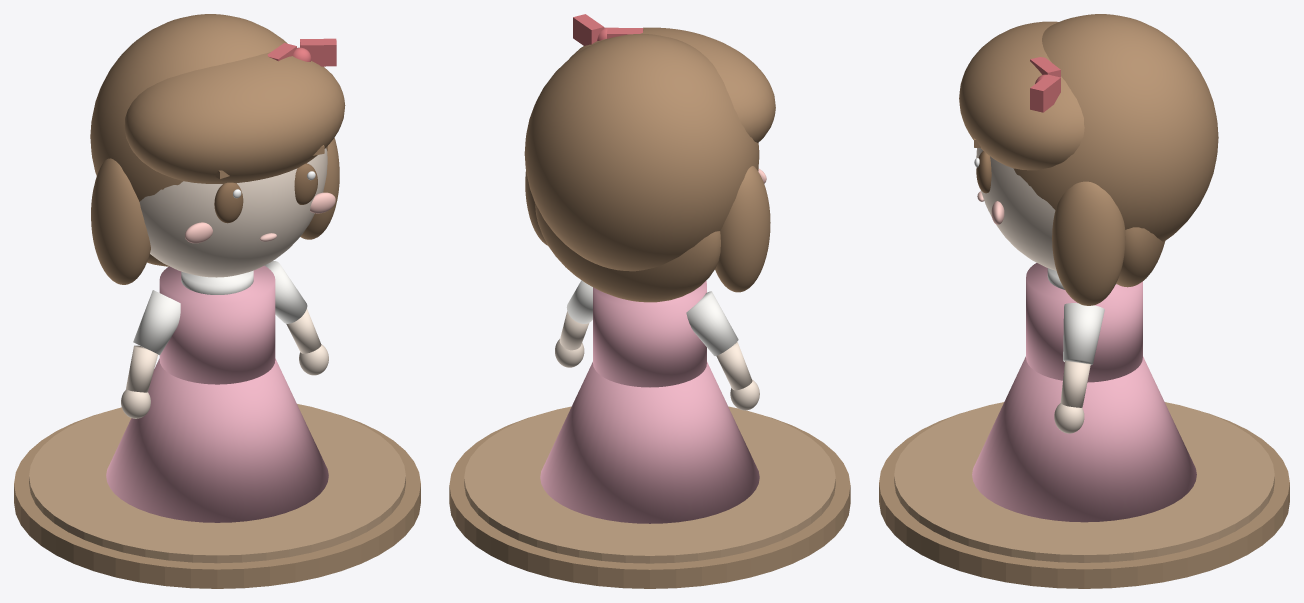
Rendered from girl_guest.glb.
3 views of the same model, side by side, from view 1: azimuth 30°, elevation 25°; view 2: azimuth 150°, elevation 25°; view 3: azimuth 270°, elevation 25° (orthographic). The views are drawn at different scales.
Visible parts, largest first — view 1: Cylinder.001, Cone, bangs, Cylinder, head, hair_main, Cylinder.002, bob-1, sleeve-1, sleeve1, bob1, Cylinder.003 (+7 smaller); view 2: hair_main, Cylinder.001, Cone, Cylinder, Cylinder.002, hair_back, bob-1, bangs, sleeve-1, arm-1, sleeve1, bow_r (+3 smaller); view 3: Cylinder.001, hair_main, Cone, Cylinder, bangs, Cylinder.002, bob1, head, sleeve1, hair_back, arm1, bow_r (+1 smaller).
Part boxes in pixels (x1,y1,x2,y2): Cylinder.001: [29, 404, 405, 563]; Cone: [106, 358, 328, 522]; bangs: [124, 52, 345, 183]; Cylinder: [14, 413, 420, 588]; head: [139, 148, 327, 277]; hair_main: [90, 14, 327, 201]; Cylinder.002: [159, 265, 275, 384]; bob-1: [91, 158, 150, 284]; sleeve-1: [133, 290, 180, 355]; sleeve1: [264, 261, 307, 323]; bob1: [300, 138, 339, 239]; Cylinder.003: [181, 270, 253, 294]; hair_main: [524, 34, 759, 271]; Cylinder.001: [464, 406, 835, 563]; Cone: [540, 362, 759, 523]; Cylinder: [449, 416, 850, 588]; Cylinder.002: [593, 281, 706, 387]; hair_back: [535, 203, 720, 302]; bob-1: [715, 166, 770, 292]; bangs: [569, 27, 775, 142]; sleeve-1: [686, 291, 738, 355]; arm-1: [716, 342, 752, 390]; sleeve1: [566, 280, 592, 323]; bow_r: [573, 14, 604, 45]; Cylinder.001: [894, 402, 1274, 562]; hair_main: [1013, 14, 1218, 241]; Cone: [972, 356, 1196, 522]; Cylinder: [879, 412, 1289, 588]; bangs: [959, 21, 1084, 170]; Cylinder.002: [1026, 263, 1142, 382]; bob1: [1052, 181, 1125, 305]; head: [976, 148, 1056, 270]; sleeve1: [1063, 303, 1104, 364]; hair_back: [1116, 227, 1165, 287]; arm1: [1060, 360, 1090, 407]; bow_r: [1030, 74, 1060, 112].
Size of the model in its own units: 1.9 by 2.44 by 1.9.
